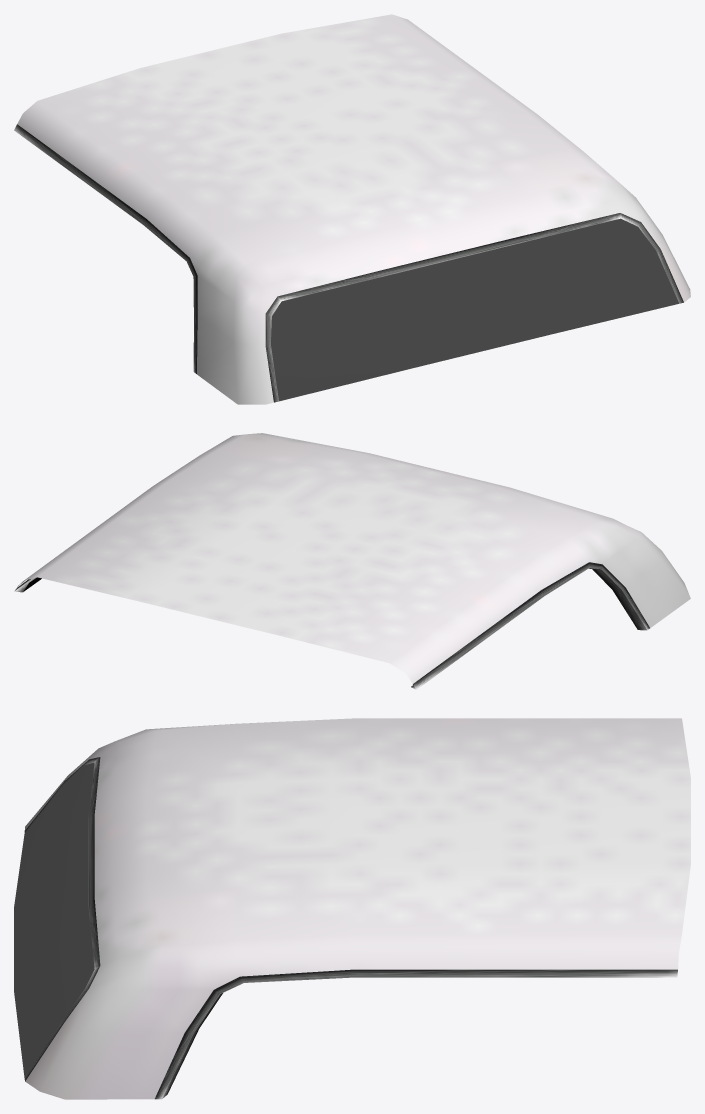
3 renders of one model, top to bottom at view 1: azimuth 30°, elevation 25°; view 2: azimuth 150°, elevation 25°; view 3: azimuth 270°, elevation 25°, orthographic. The views are drawn at different scales.
Parts seen in each view (by area): view 1: rf_lr_sv1; view 2: rf_lr_sv1; view 3: rf_lr_sv1.
Boxes of the visible parts, x1,y1,x2,y2 form: rf_lr_sv1: (14, 14, 690, 404); rf_lr_sv1: (14, 433, 690, 689); rf_lr_sv1: (14, 718, 690, 1099).
Bounding box in the file's own units: 2.11 × 0.4896 × 2.16.
Materials: 4 (4 with a texture image).
